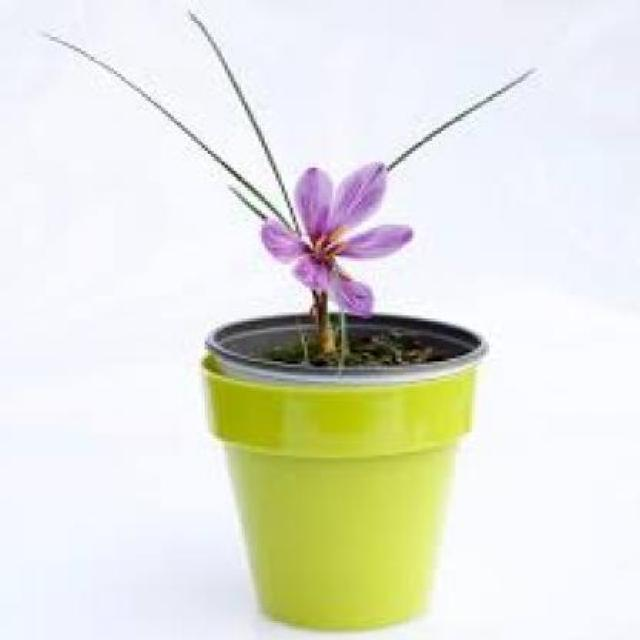saffron open: (261, 162, 411, 313)
